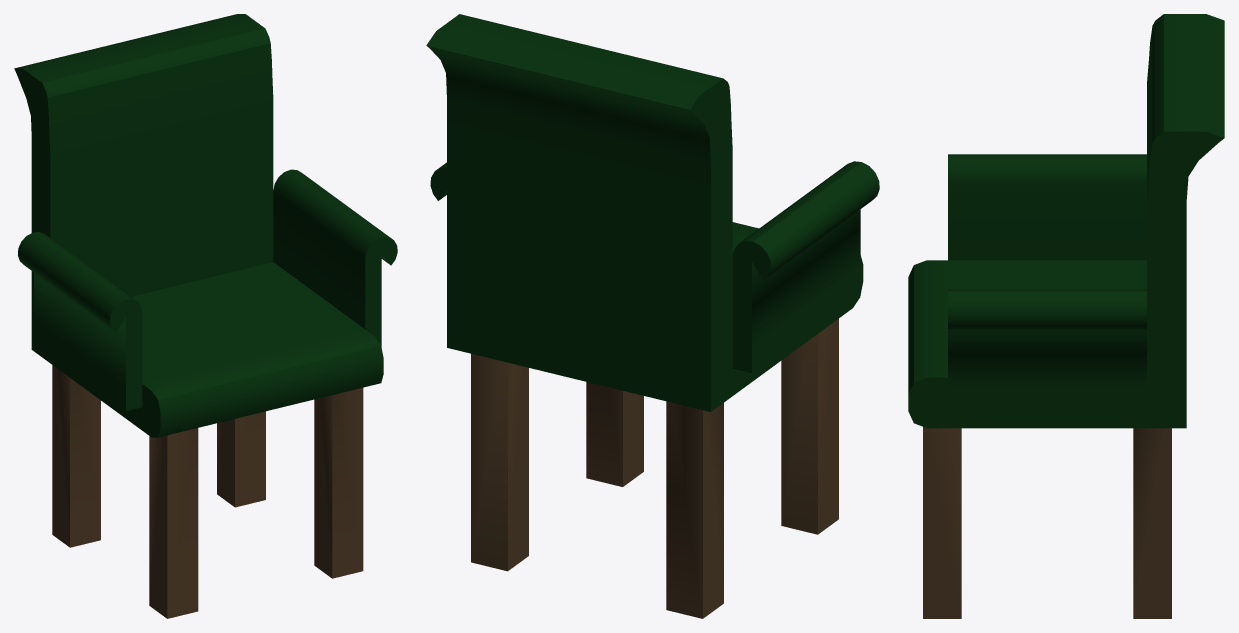
The model's file is chair15.fbx.
3 renders of one model, left to right at view 1: azimuth 30°, elevation 25°; view 2: azimuth 150°, elevation 25°; view 3: azimuth 270°, elevation 25°, orthographic. The views are drawn at different scales.
Visible parts, largest first — view 1: Chair15; view 2: Chair15; view 3: Chair15.
Part boxes in pixels (x1,y1,x2,y2): Chair15: [14, 14, 397, 618]; Chair15: [426, 14, 879, 618]; Chair15: [908, 14, 1224, 618].
Size of the model in its own units: 66.13 by 100 by 58.23.
